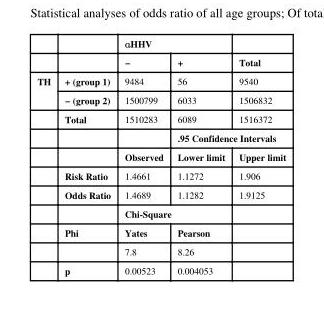table: (36, 36, 285, 276)
table column: (169, 36, 231, 276), (57, 36, 116, 276), (231, 36, 285, 276), (116, 36, 169, 276), (36, 36, 57, 276)
table column header: (36, 36, 285, 71)
table row: (36, 184, 285, 204), (36, 52, 285, 71), (36, 71, 285, 90), (36, 90, 285, 109), (36, 109, 285, 128), (36, 128, 285, 147), (36, 147, 285, 166), (36, 222, 285, 241), (36, 241, 285, 260), (36, 166, 285, 184), (36, 204, 285, 222), (36, 36, 285, 52), (36, 260, 285, 276)
table spanning cell: (36, 71, 57, 276), (169, 128, 285, 147), (116, 204, 231, 222), (231, 36, 285, 71), (116, 36, 231, 52)
